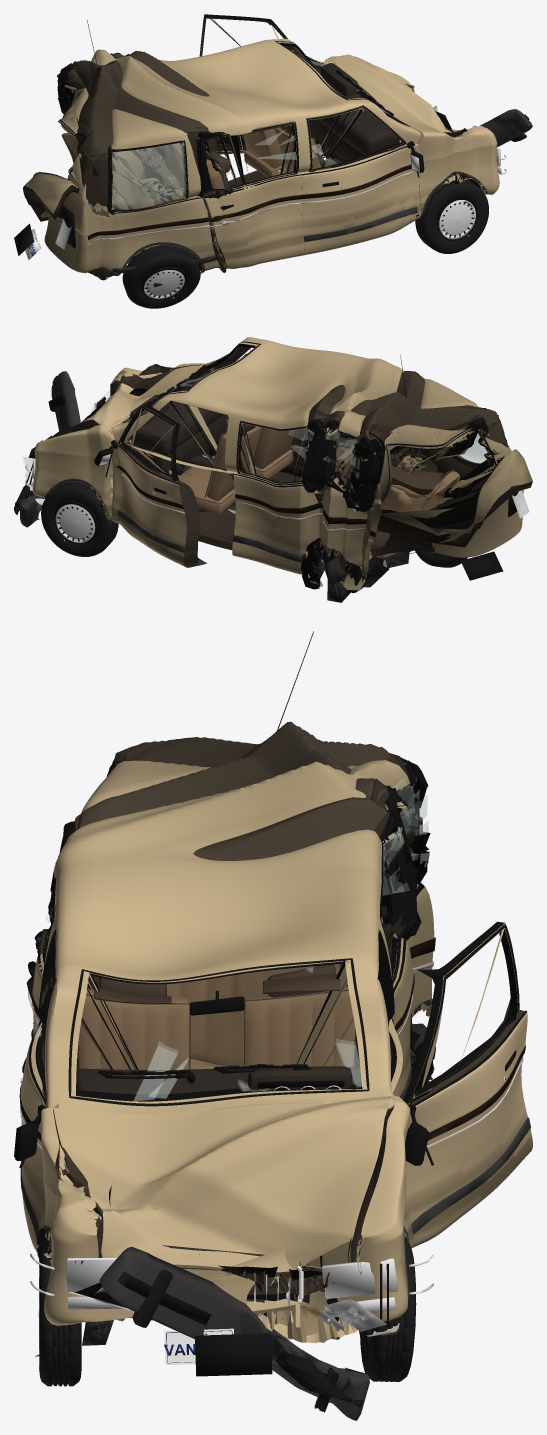
File: minivan86_rear_corner_d3_lod1.glb
The picture shows the model from 3 angles, top to bottom: view 1: azimuth 30°, elevation 25°; view 2: azimuth 150°, elevation 25°; view 3: azimuth 270°, elevation 25°; orthographic projection. The views are drawn at different scales.
Visible parts, largest first — view 1: Body, Interior, Door_FR, Door_SR, Glass, Wheel_FR_mesh, Wheel_RR_mesh, Hood, Liftgate, Trim_FR, Trim, Trim_SR (+4 smaller); view 2: Body, Interior, Door_FL, Liftgate, Glass, Wheel_FL_mesh, Trim, Hood, Bumper_F, Trim_FL, Ends, Underbody (+3 smaller); view 3: Body, Hood, Interior, Door_FL, Bumper_F, Ends, Glass, Trim_FL, Trim, Door_FR, Wheel_FL_mesh, Wheel_FR_mesh (+1 smaller).
Boxes of the visible parts, box(x1,y1,x2,y2) form: Body: box(44, 38, 499, 280); Interior: box(112, 63, 399, 256); Door_FR: box(301, 105, 420, 255); Door_SR: box(198, 121, 304, 268); Glass: box(57, 41, 410, 212); Wheel_FR_mesh: box(415, 179, 488, 253); Wheel_RR_mesh: box(122, 244, 200, 308); Hood: box(328, 54, 467, 148); Liftgate: box(23, 65, 111, 221); Trim_FR: box(301, 105, 424, 241); Trim: box(57, 20, 487, 275); Trim_SR: box(197, 122, 301, 227); Body: box(32, 337, 523, 593); Interior: box(129, 353, 459, 558); Door_FL: box(111, 401, 199, 567); Liftgate: box(369, 408, 532, 547); Glass: box(122, 341, 490, 511); Wheel_FL_mesh: box(41, 481, 118, 556); Trim: box(44, 355, 480, 585); Hood: box(50, 365, 201, 438); Bumper_F: box(14, 371, 80, 527); Trim_FL: box(94, 406, 210, 565); Ends: box(23, 390, 529, 580); Underbody: box(67, 455, 412, 602); Body: box(31, 721, 434, 1343); Hood: box(53, 1096, 394, 1303); Interior: box(76, 963, 361, 1094); Door_FL: box(403, 921, 532, 1248); Bumper_F: box(99, 1247, 369, 1420); Ends: box(30, 1253, 433, 1376); Glass: box(68, 760, 429, 1106); Trim_FL: box(405, 924, 530, 1234); Trim: box(37, 631, 435, 1300); Door_FR: box(20, 929, 56, 1252); Wheel_FL_mesh: box(360, 1240, 416, 1381); Wheel_FR_mesh: box(35, 1247, 81, 1386).
Size of the model in its own units: 4.52 by 2.3 by 2.27.
Materials: 33 (5 with a texture image).
